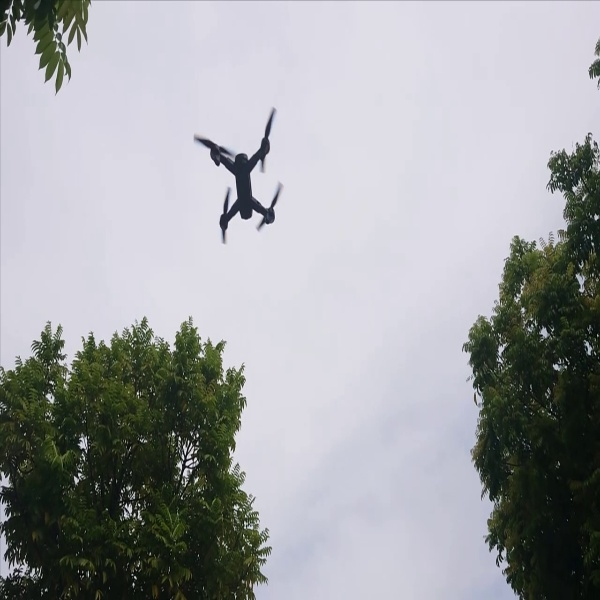drone: (189, 104, 289, 251)
